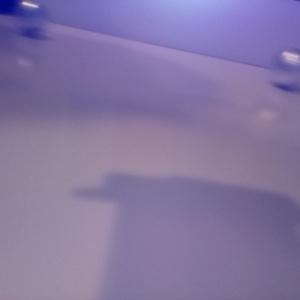alive_ball: (269, 48, 300, 89), (14, 1, 46, 33)
